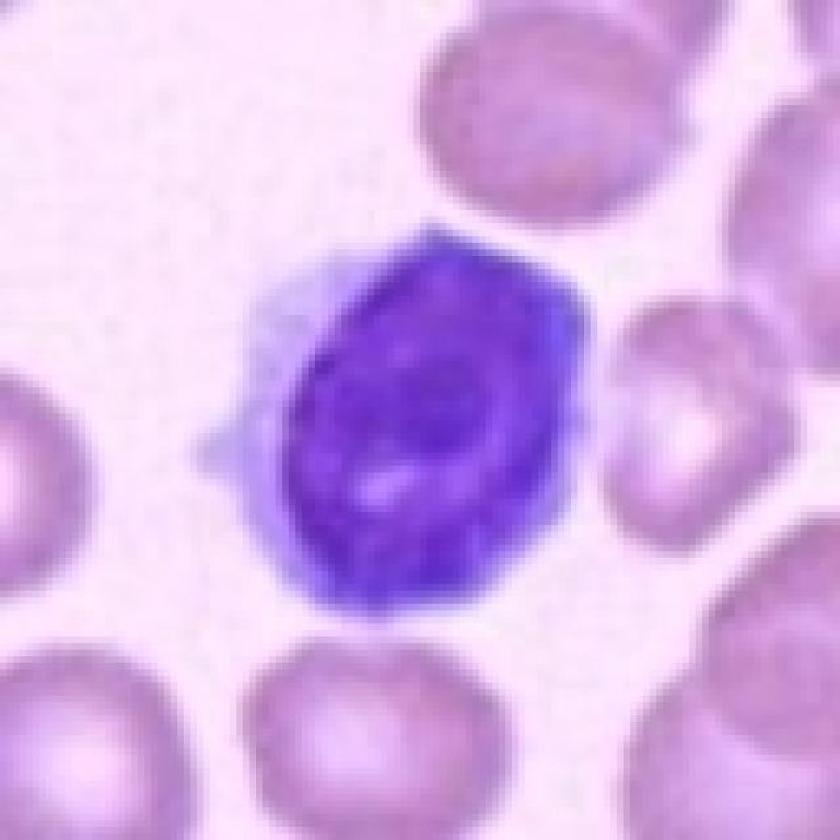lymphocyte: (205, 196, 596, 642)
